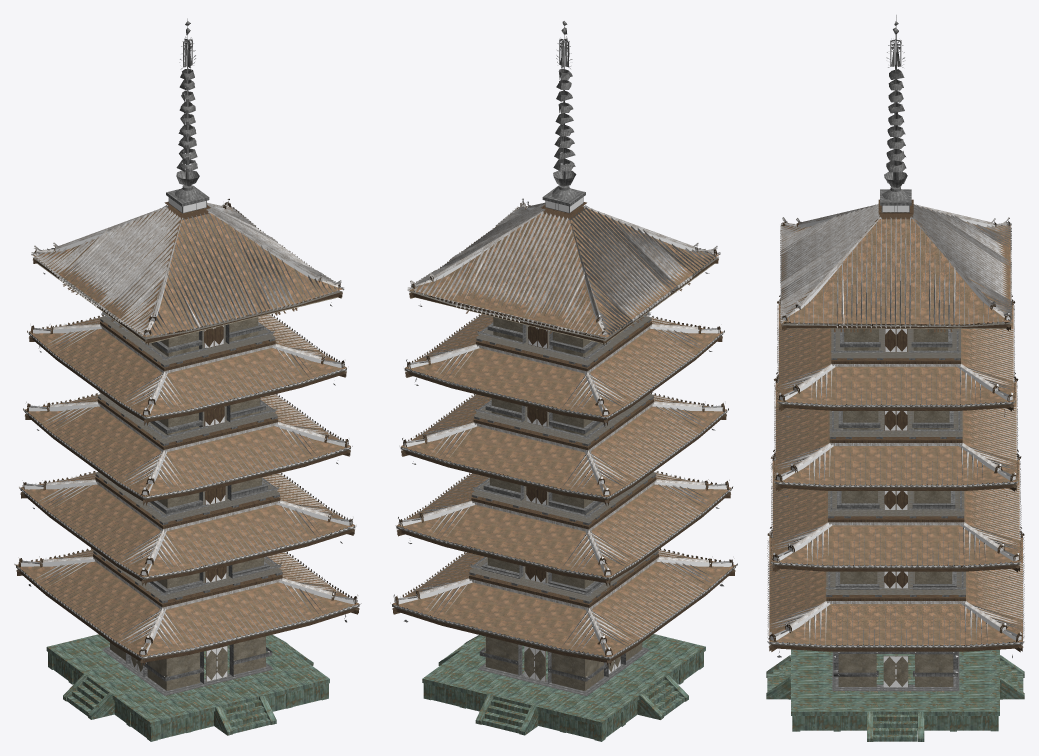
The model's file is Pagoda_Goju_57m.gltf.
3 views of the same model, side by side, from view 1: azimuth 30°, elevation 25°; view 2: azimuth 150°, elevation 25°; view 3: azimuth 270°, elevation 25° (orthographic).
Visible parts, largest first — view 1: Roof5_LOD0, Roof1_LOD0, Roof2_LOD0, Roof3_LOD0, Roof4_LOD0, Base_LOD0, Wall1_LOD0, Sorin_LOD0, Wall5_LOD0, Wall4_LOD0, Wall3_LOD0, Wall2_LOD0; view 2: Roof5_LOD0, Roof1_LOD0, Roof2_LOD0, Roof3_LOD0, Roof4_LOD0, Base_LOD0, Wall1_LOD0, Sorin_LOD0, Wall5_LOD0, Wall4_LOD0, Wall3_LOD0, Wall2_LOD0; view 3: Roof5_LOD0, Roof1_LOD0, Roof2_LOD0, Roof3_LOD0, Roof4_LOD0, Base_LOD0, Wall1_LOD0, Sorin_LOD0, Wall5_LOD0, Wall4_LOD0, Wall3_LOD0, Wall2_LOD0 (+1 smaller).
Boxes of the visible parts, x1,y1,x2,y2 form: Roof5_LOD0: (31,198,344,344); Roof1_LOD0: (14,548,361,662); Roof2_LOD0: (18,471,356,583); Roof3_LOD0: (23,391,352,502); Roof4_LOD0: (27,312,346,422); Base_LOD0: (46,634,329,741); Wall1_LOD0: (17,572,358,695); Sorin_LOD0: (166,18,209,213); Wall5_LOD0: (33,260,342,356); Wall4_LOD0: (29,338,346,434); Wall3_LOD0: (25,416,350,513); Wall2_LOD0: (21,494,354,594); Roof5_LOD0: (407,198,720,344); Roof1_LOD0: (390,548,737,663); Roof2_LOD0: (395,471,732,583); Roof3_LOD0: (399,392,728,502); Roof4_LOD0: (404,312,724,422); Base_LOD0: (422,634,705,741); Wall1_LOD0: (393,572,734,696); Sorin_LOD0: (542,21,585,213); Wall5_LOD0: (409,260,718,356); Wall4_LOD0: (405,338,722,435); Wall3_LOD0: (401,416,726,514); Wall2_LOD0: (397,494,730,594); Roof5_LOD0: (780,199,1012,332); Roof1_LOD0: (767,527,1024,651); Roof2_LOD0: (771,450,1021,571); Roof3_LOD0: (773,372,1018,490); Roof4_LOD0: (777,295,1015,410); Base_LOD0: (766,649,1024,741); Wall1_LOD0: (769,647,1022,691); Sorin_LOD0: (880,15,911,212); Wall5_LOD0: (782,326,1010,351); Wall4_LOD0: (779,407,1013,430); Wall3_LOD0: (775,387,1016,509); Wall2_LOD0: (772,465,1019,589).
Size of the model in its own units: 20.09 by 57.82 by 20.12.
11 materials, 10 textured.
